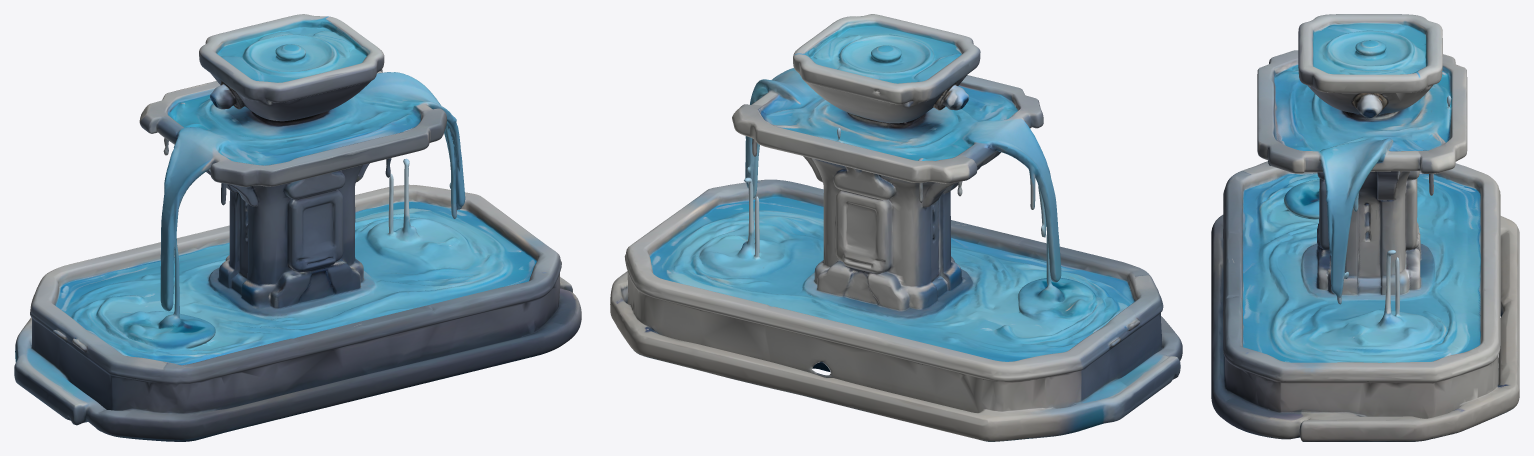
The model's file is plaza-infinity-fountain.glb.
3 renders of one model, left to right at view 1: azimuth 30°, elevation 25°; view 2: azimuth 150°, elevation 25°; view 3: azimuth 270°, elevation 25°, orthographic. The views are drawn at different scales.
Visible parts, largest first — view 1: tripo_node_f4189168-c166-42c4-aa56-2af509c7294c; view 2: tripo_node_f4189168-c166-42c4-aa56-2af509c7294c; view 3: tripo_node_f4189168-c166-42c4-aa56-2af509c7294c.
Part boxes in pixels (x1,y1,x2,y2): tripo_node_f4189168-c166-42c4-aa56-2af509c7294c: (14, 14, 581, 441); tripo_node_f4189168-c166-42c4-aa56-2af509c7294c: (610, 14, 1182, 441); tripo_node_f4189168-c166-42c4-aa56-2af509c7294c: (1211, 14, 1519, 441).
Bounding box in the file's own units: 3.5 × 2 × 1.92.
Materials: 1 (1 with a texture image).
